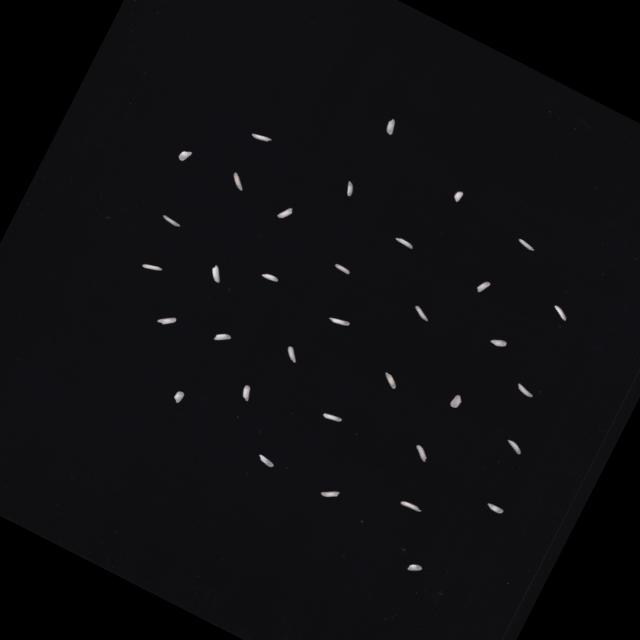Chalky: (227, 172, 248, 192), (207, 264, 227, 285), (156, 311, 178, 330), (412, 443, 432, 462), (411, 304, 432, 322), (319, 485, 340, 503), (328, 314, 350, 331), (380, 372, 400, 390), (514, 383, 536, 399), (504, 439, 524, 456), (550, 305, 570, 322), (141, 260, 162, 276), (160, 214, 182, 229), (400, 500, 422, 514), (283, 346, 301, 363), (276, 205, 294, 222), (476, 278, 492, 296), (383, 118, 399, 136), (213, 331, 232, 346), (252, 131, 272, 145), (322, 412, 342, 426), (516, 238, 536, 252), (260, 270, 280, 284), (394, 237, 415, 250), (342, 181, 358, 198), (239, 384, 254, 402), (333, 262, 352, 276), (257, 454, 276, 468), (486, 502, 505, 516), (178, 148, 194, 164), (448, 394, 464, 410), (490, 336, 508, 350), (171, 389, 186, 405), (406, 561, 423, 575), (452, 190, 465, 203)
